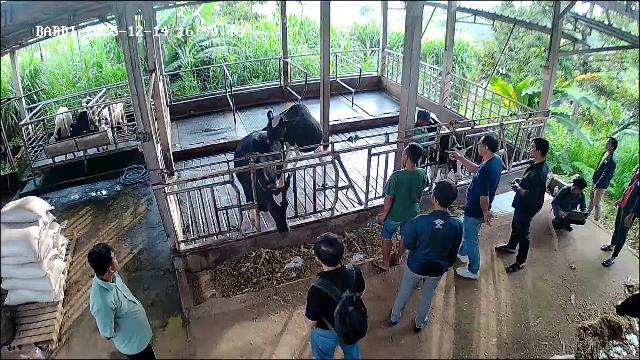mounting: (263, 103, 326, 202)
